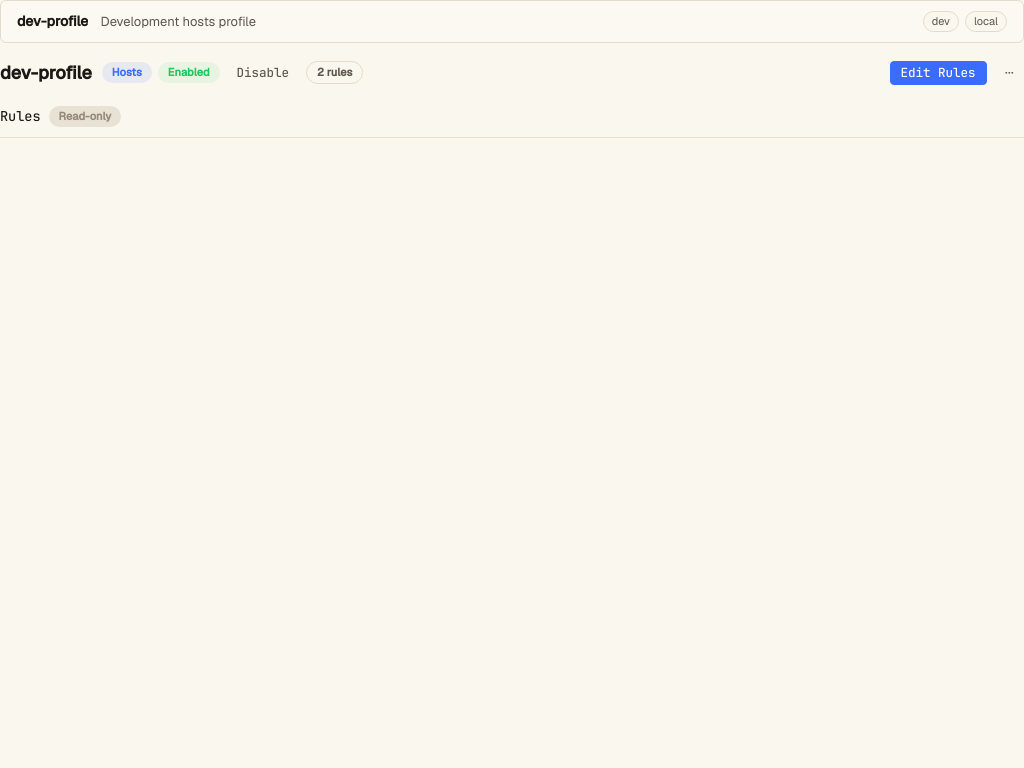
Test: ProfileView › shows Delete confirmation when Delete menu item is clicked
Note: Delete lives in the header ⋯ menu (Phase 2)
Click the button named "more profile actions" at (1009, 72), box [994, 60, 1023, 84]
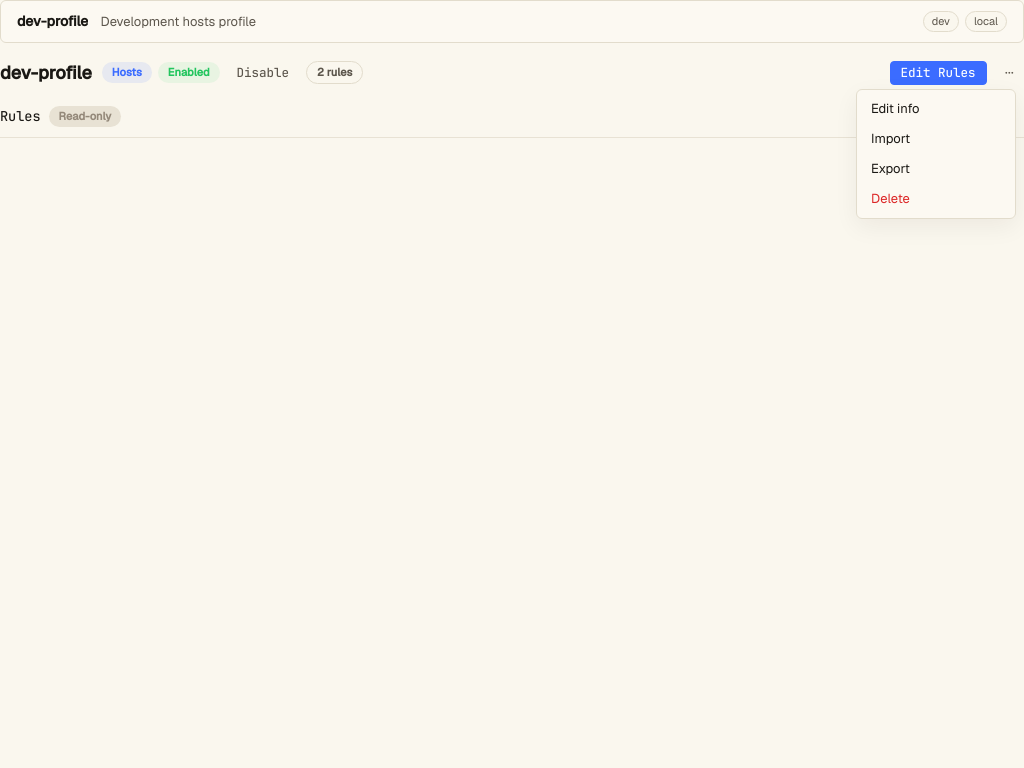
Expected: the menu item "Delete" is enabled
Click the menu item "Delete" at (936, 198), box [861, 184, 1011, 214]
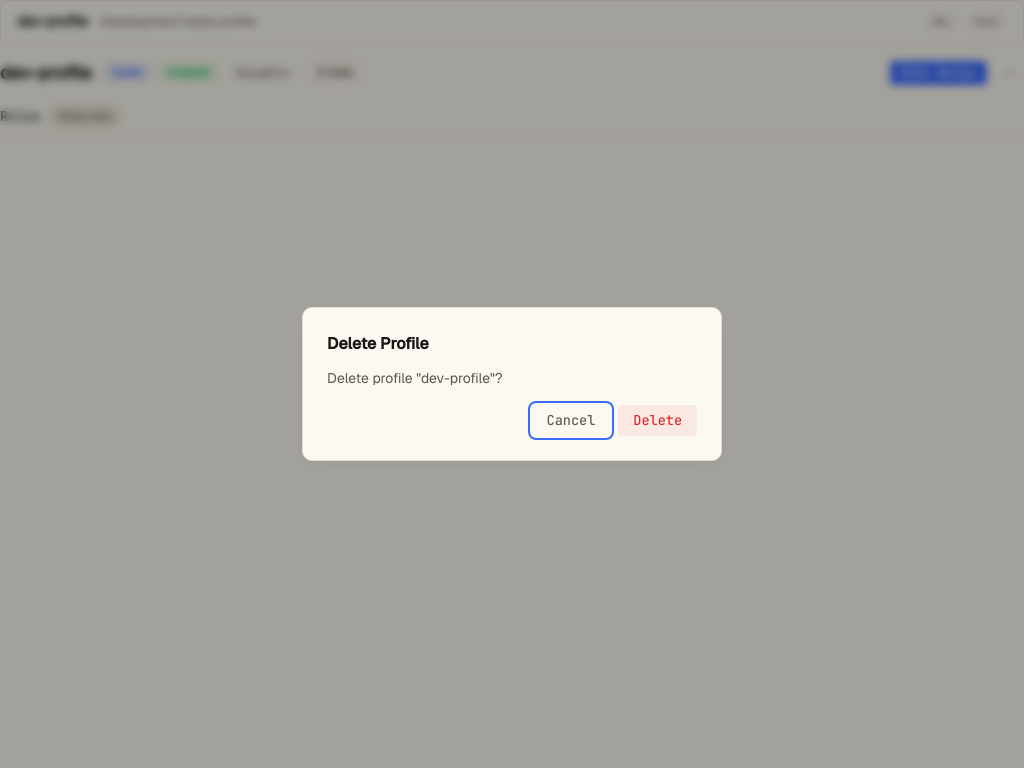
Expected: the dialog is shown
Expected: the text "Delete profile \"dev-profile\"?" is shown, [327, 369, 503, 387]
